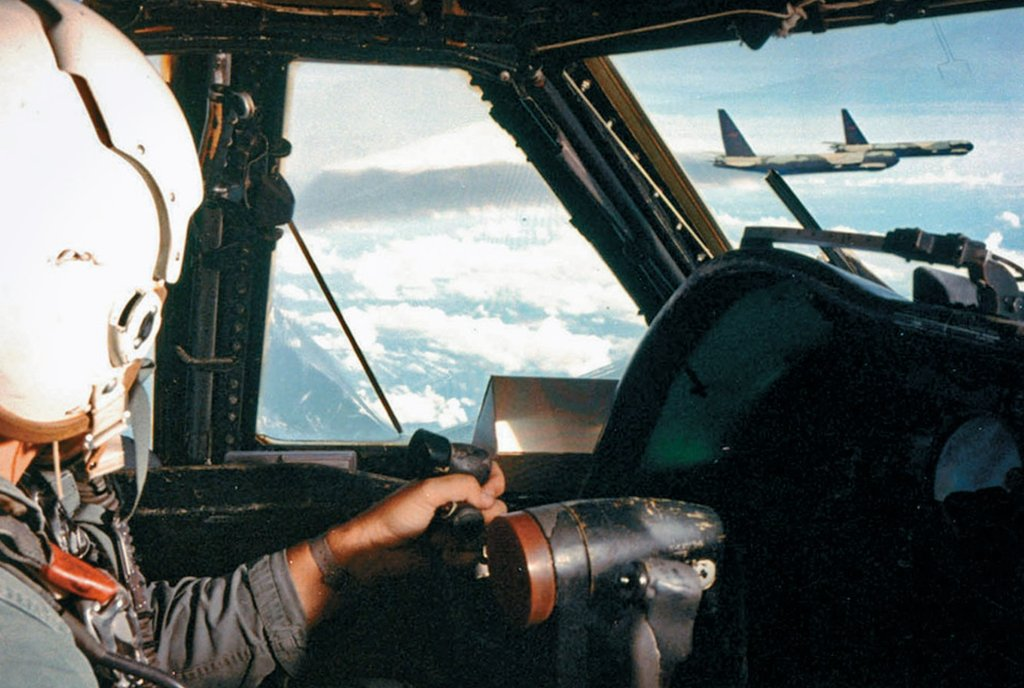B52: (703, 108, 900, 176), (821, 108, 974, 158)
